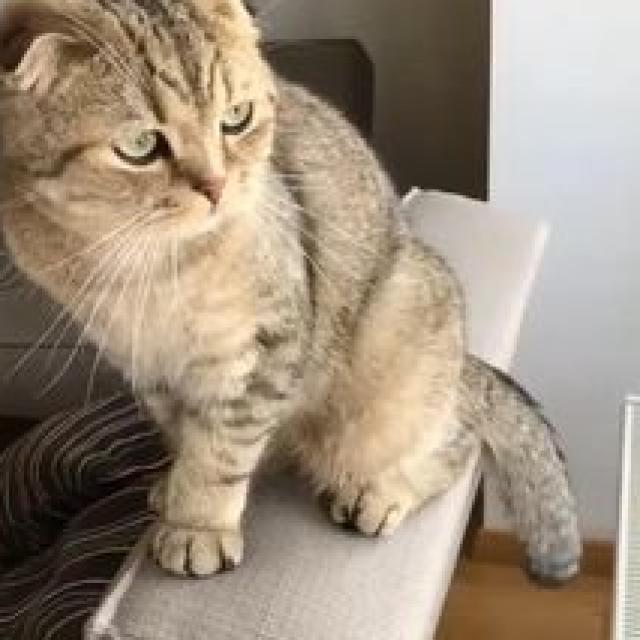Scottish Fold: (0, 0, 586, 595)
